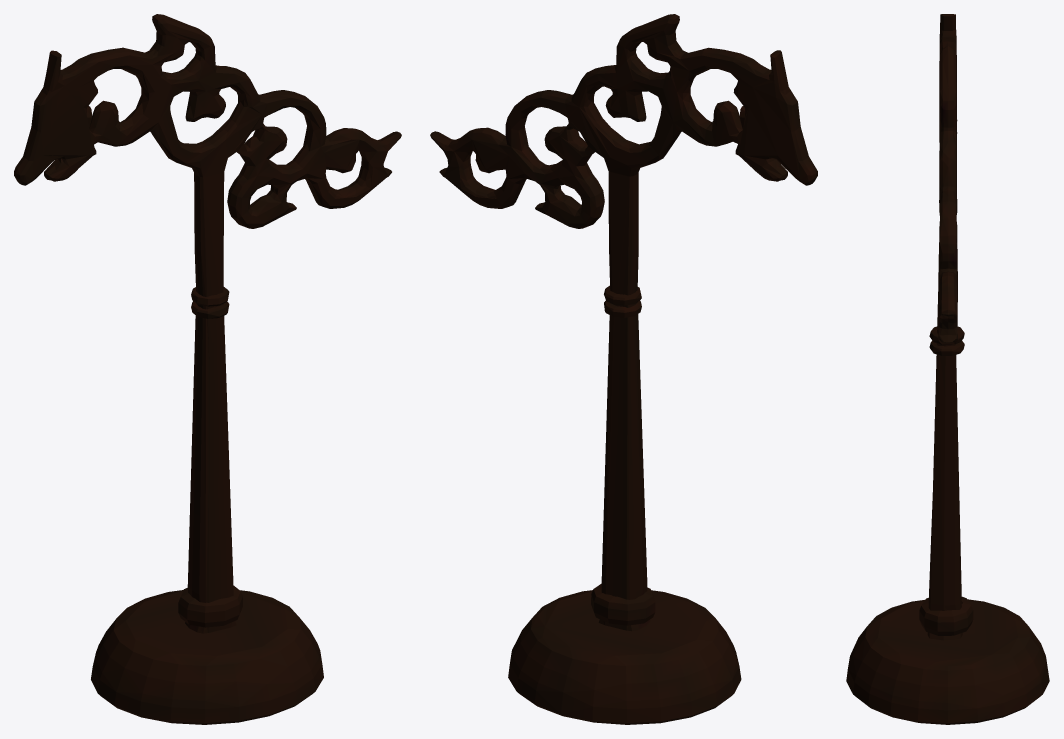
The model's file is gyeongbokgung_cheonchujeon_brushholder_0abd2e46.glb.
The picture shows the model from 3 angles, left to right: view 1: azimuth 30°, elevation 25°; view 2: azimuth 150°, elevation 25°; view 3: azimuth 270°, elevation 25°; orthographic projection. The views are drawn at different scales.
Parts seen in each view (by area): view 1: SM_CCJ_BrushHolder_M_CCJ_BrushHolder_0; view 2: SM_CCJ_BrushHolder_M_CCJ_BrushHolder_0; view 3: SM_CCJ_BrushHolder_M_CCJ_BrushHolder_0.
Part boxes in pixels (x1=…): SM_CCJ_BrushHolder_M_CCJ_BrushHolder_0: x1=14, y1=14, x2=401, y2=724; SM_CCJ_BrushHolder_M_CCJ_BrushHolder_0: x1=430, y1=14, x2=817, y2=724; SM_CCJ_BrushHolder_M_CCJ_BrushHolder_0: x1=846, y1=14, x2=1049, y2=724.
Bounding box in the file's own units: 0.1384 × 0.2325 × 0.07.
